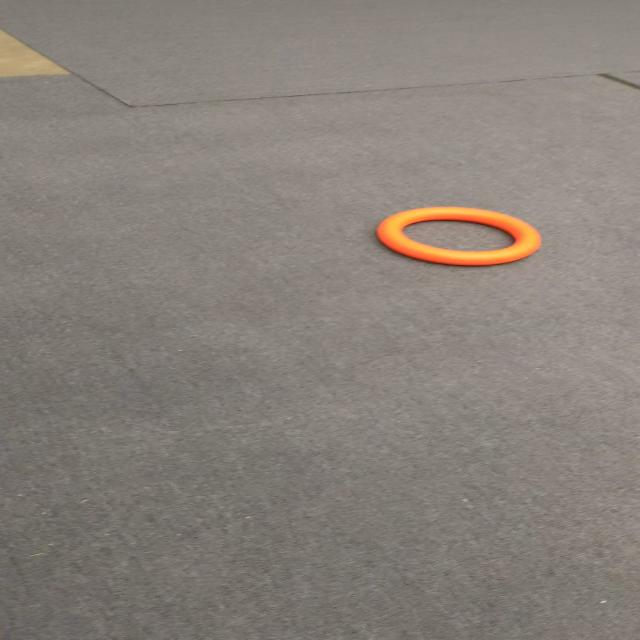note: (375, 202, 542, 264)
